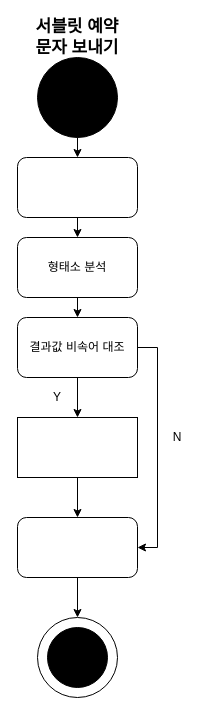
This 215x715 diagram has some shape labels left out. The centre of each missing label's shape, as x and y in pixels:
"비속어 제거/변경" goes at (77,447).
"출력" goes at (77,547).
